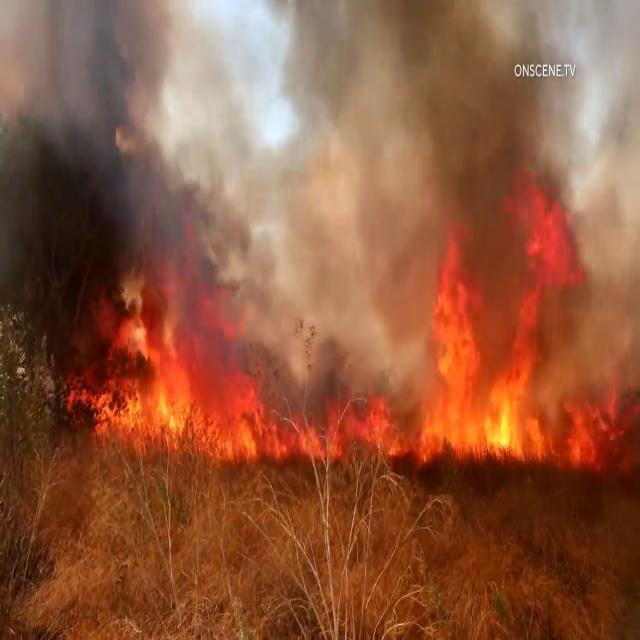Fire: (415, 212, 615, 474), (79, 278, 272, 455), (289, 385, 409, 464)
Smoke: (270, 0, 638, 357), (0, 1, 246, 370)
